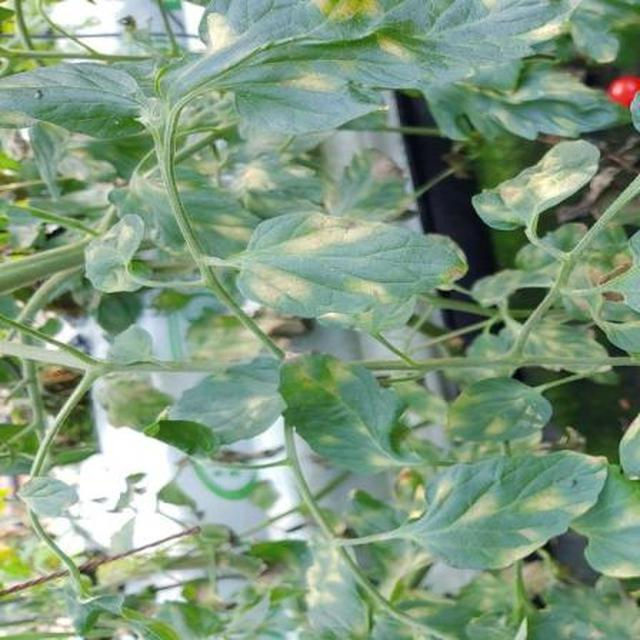Leaf Mold: (178, 96, 640, 640)
